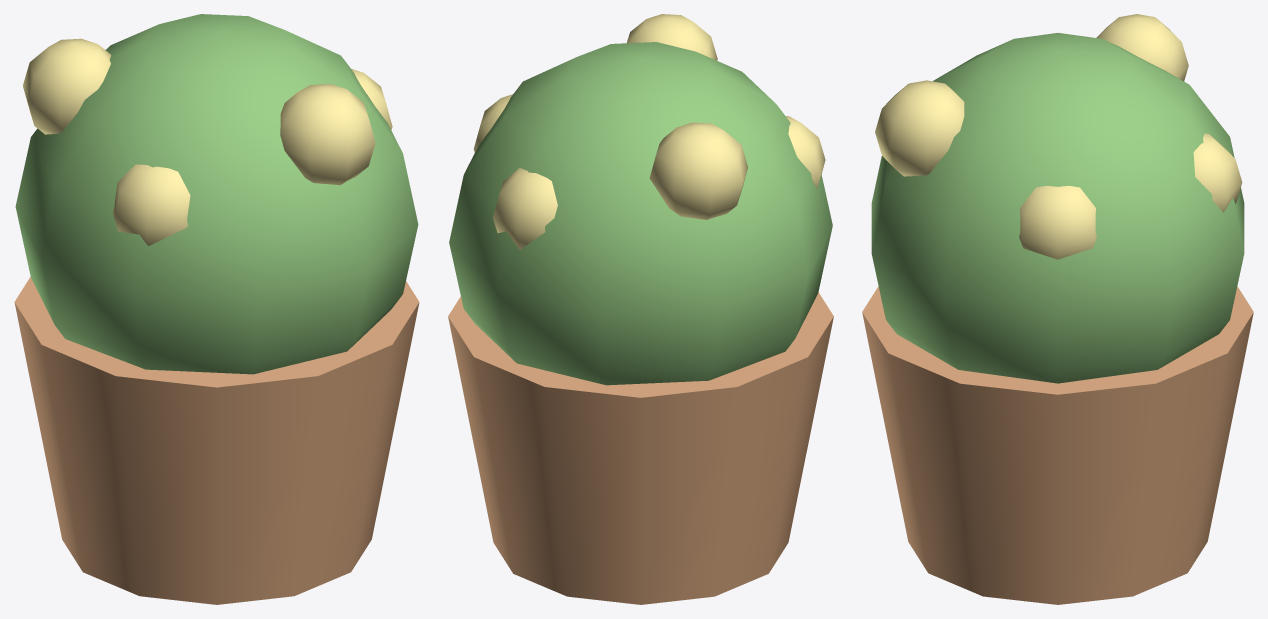
Rendered from pot1.glb.
The picture shows the model from 3 angles, left to right: view 1: azimuth 30°, elevation 25°; view 2: azimuth 150°, elevation 25°; view 3: azimuth 270°, elevation 25°; orthographic projection. The views are drawn at different scales.
Parts seen in each view (by area): view 1: pot1; view 2: pot1; view 3: pot1.
Boxes of the visible parts, x1,y1,x2,y2 form: pot1: (14, 14, 419, 604); pot1: (448, 14, 833, 604); pot1: (862, 14, 1253, 604).
Size of the model in its own units: 0.34 by 0.47 by 0.34.
